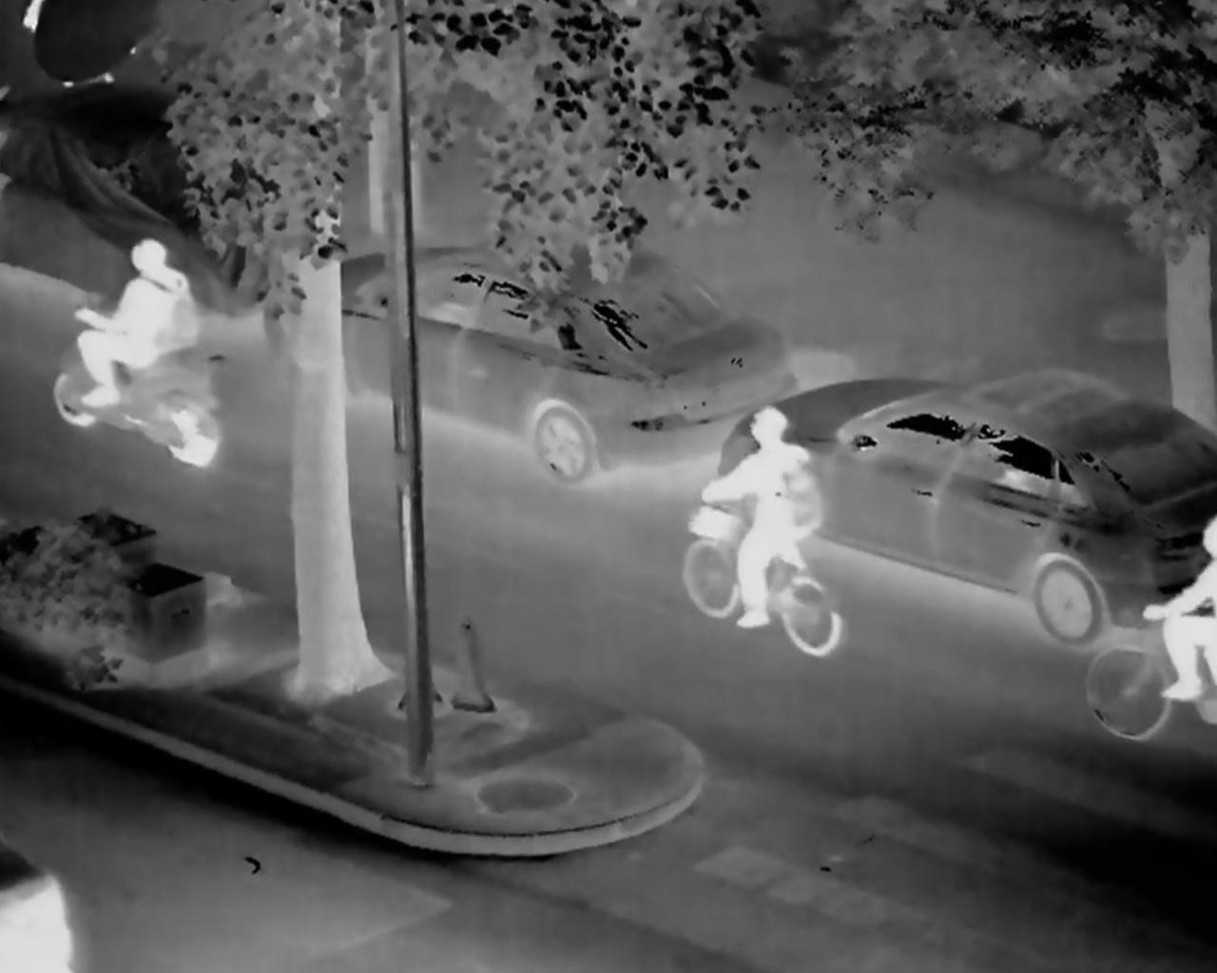person: (689, 405, 832, 663), (71, 225, 210, 429), (1143, 508, 1217, 737)
